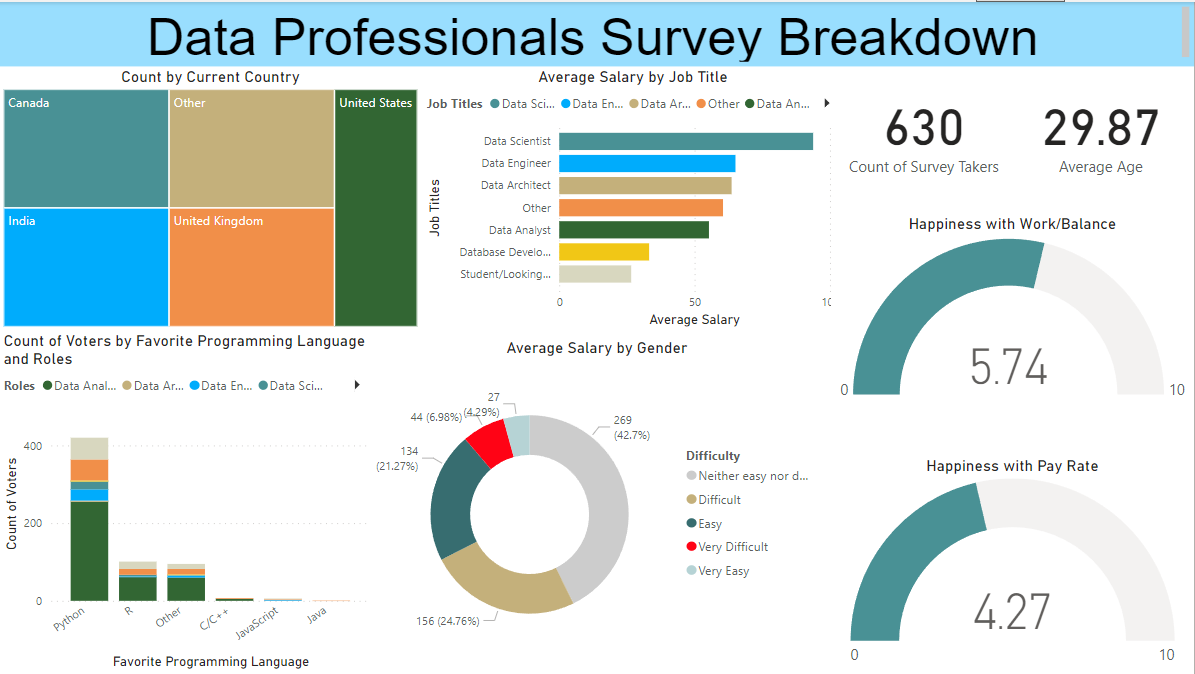

What the dashboard file says about the page in this screenshot:
{"tool":"powerbi","page":{"name":"Page 1","canvas":[1280,720],"ordinal":0},"visuals":[{"type":"textbox","box":[0,0,1280,69.4],"z":0},{"type":"card","fields":{"Values":["Count(Data Professional Survey.Unique ID)"]},"box":[891.2,69.6,199.2,136],"z":1000},{"type":"card","fields":{"Values":["Avg(Data Professional Survey.Q10 - Current Age)"]},"box":[1080.9,69.5,199.1,135.9],"z":2000},{"type":"barChart","title":"Average Salary by Job Title","fields":{"Category":["Data Professional Survey.Q1 - Which Title Best Fits your Current Role?.1"],"Y":["Avg(Data Professional Survey.Average Salary.1)"],"Series":["Data Professional Survey.Q1 - Which Title Best Fits your Current Role?.1"]},"box":[453.1,69.6,452,282.8],"z":3000},{"type":"columnChart","fields":{"Category":["Data Professional Survey.Q5 - Favorite Programming Language.1"],"Y":["CountNonNull(Data Professional Survey.Unique ID)"],"Series":["Data Professional Survey.Q1 - Which Title Best Fits your Current Role?.1"]},"box":[0,352.4,402.7,367.4],"z":4000},{"type":"treemap","fields":{"Group":["Data Professional Survey.Q11 - Which Country do you live in?.1"],"Values":["Count(Data Professional Survey.Q11 - Which Country do you live in?.1)"]},"box":[0,70,452.7,282.4],"z":5000},{"type":"gauge","title":"Happiness with Work/Balance","fields":{"Y":["Avg(Data Professional Survey.Q6 - How Happy are you in your Current Position with the following? (Work/Life Balance))"],"MinValue":["Min(Data Professional Survey.Q6 - How Happy are you in your Current Position with the following? (Work/Life Balance))1"],"MaxValue":["Max(Data Professional Survey.Q6 - How Happy are you in your Current Position with the following? (Work/Life Balance))2"]},"box":[891.2,227.1,388.8,205.7],"z":6000},{"type":"gauge","title":"Happiness with Pay Rate","fields":{"Y":["Avg(Data Professional Survey.Q6 - How Happy are you in your Current Position with the following? (Salary))"],"MinValue":["Min(Data Professional Survey.Q6 - How Happy are you in your Current Position with the following? (Salary))"],"MaxValue":["Max(Data Professional Survey.Q6 - How Happy are you in your Current Position with the following? (Salary))1"]},"box":[891.2,486.3,388.8,233.5],"z":7000},{"type":"donutChart","title":"Average Salary by Gender","fields":{"Category":["Data Professional Survey.Q7 - How difficult was it for you to break into Data?"],"Y":["CountNonNull(Data Professional Survey.Q7 - How difficult was it for you to break into Data?)"]},"box":[403,356.6,488.1,358.3],"z":8000}]}

Visuals, with their boxes in screenshot pixels (x1, y1, x2, y2), scaled from the page's 1280x720 canvas onto the 1195x674 screenshot:
textbox: 0 0 1194 65
card - Count(Data Professional Survey.Unique ID): 832 65 1018 192
card - Avg(Data Professional Survey.Q10 - Current Age): 1009 65 1194 192
"Average Salary by Job Title" barChart: 423 65 845 330
columnChart - Data Professional Survey.Q5 - Favorite Programming Language.1 x CountNonNull(Data Professional Survey.Unique ID): 0 330 376 673
treemap - Data Professional Survey.Q11 - Which Country do you live in?.1 x Count(Data Professional Survey.Q11 - Which Country do you live in?.1): 0 66 423 330
"Happiness with Work/Balance" gauge: 832 213 1194 405
"Happiness with Pay Rate" gauge: 832 455 1194 673
"Average Salary by Gender" donutChart: 376 334 832 669
